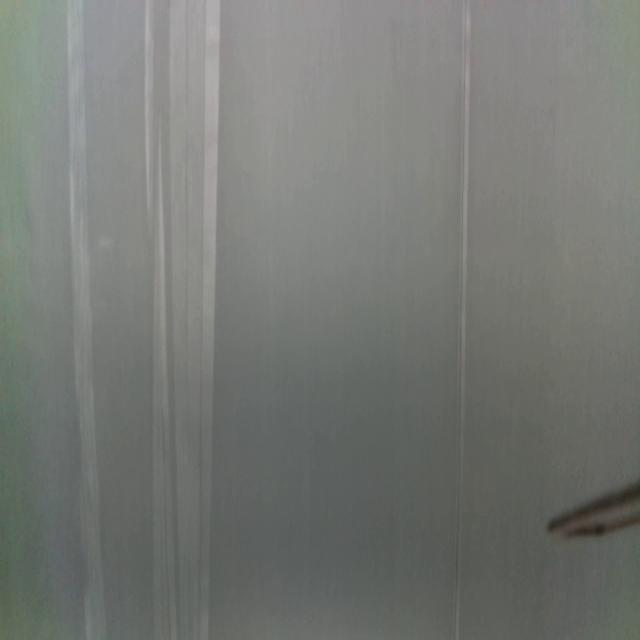crease: (146, 0, 220, 640), (68, 1, 105, 640), (452, 0, 472, 640)
